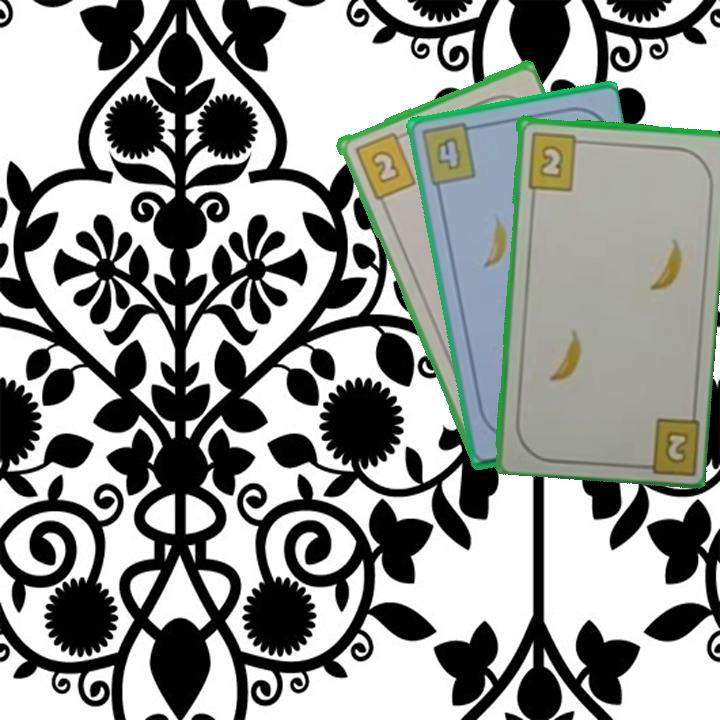2b: (350, 128, 418, 202), (631, 413, 700, 474), (523, 129, 588, 193)
4b: (417, 120, 481, 188)
